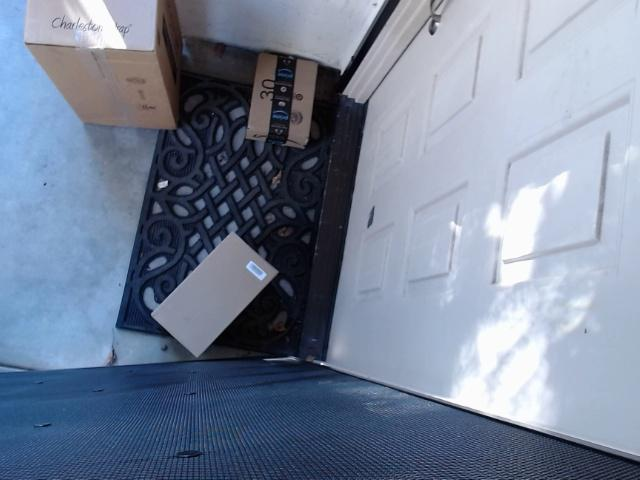box: (12, 0, 200, 145), (146, 226, 302, 359), (243, 16, 319, 152)
